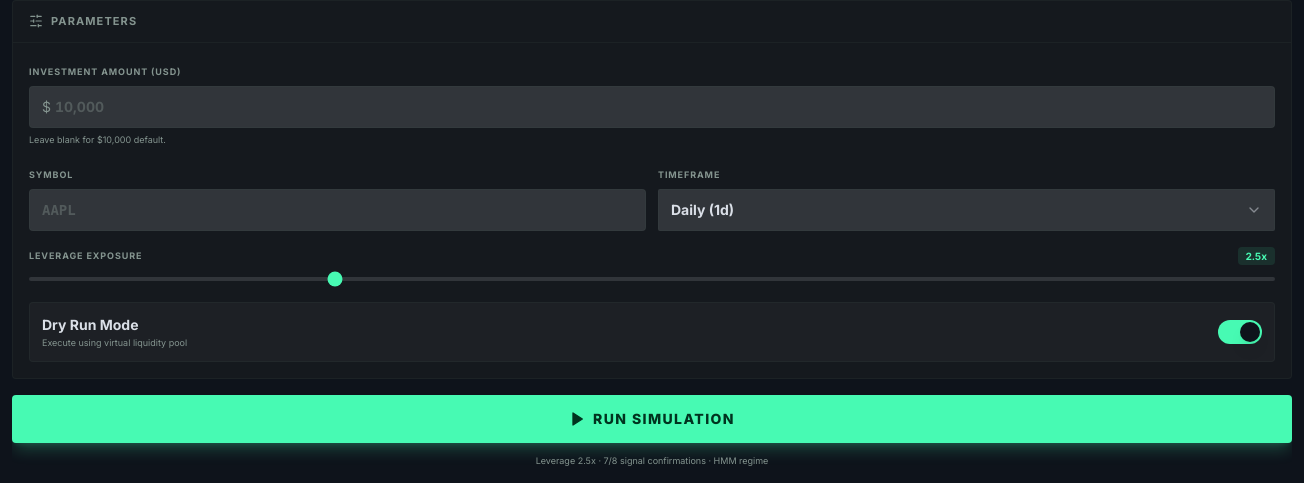
Test: StrategyForm — dry-run toggle › shows LIVE warning when dry-run is toggled off
Click the switch: coordinates (1240, 332) [1218,320,1262,344]
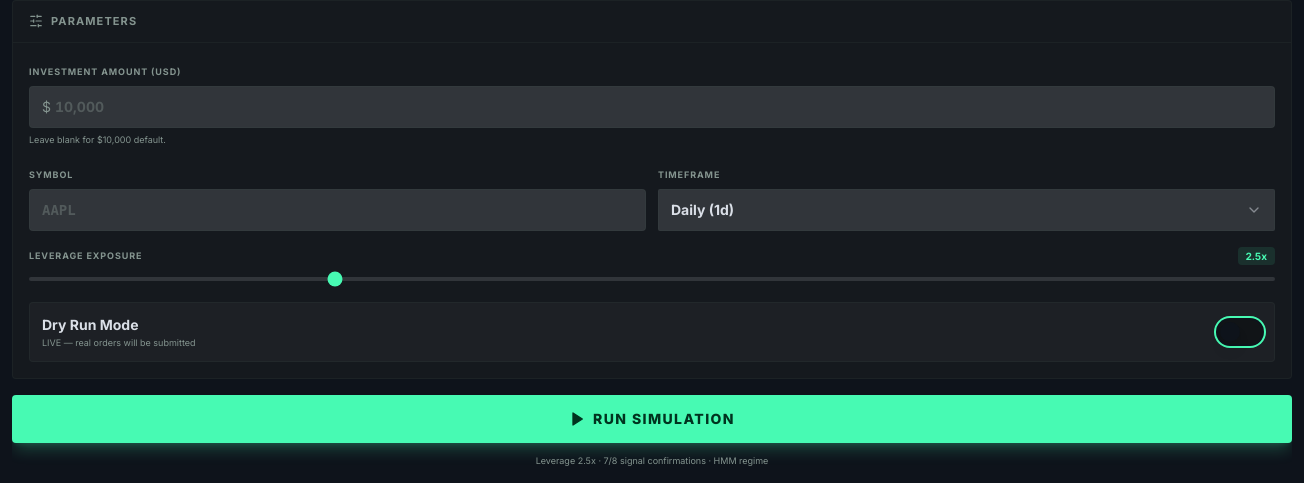
Result: the text "LIVE — real orders will be submitted" is shown at [42,336,196,348]
